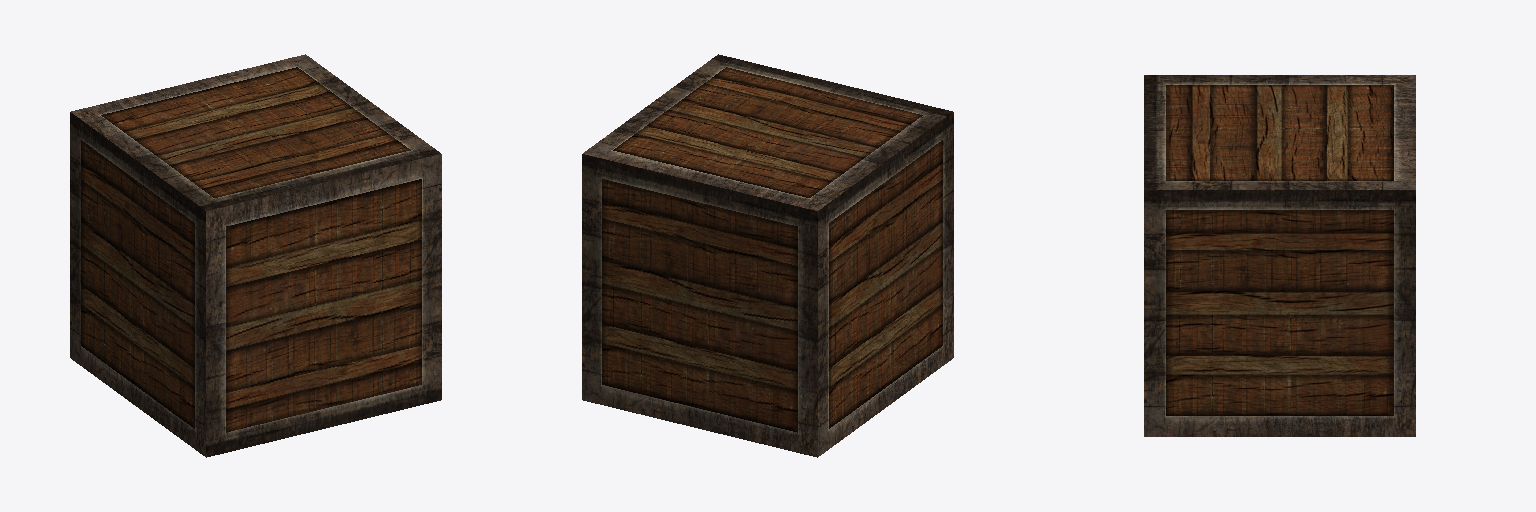
The picture shows the model from 3 angles: view 1: azimuth 30°, elevation 25°; view 2: azimuth 150°, elevation 25°; view 3: azimuth 270°, elevation 25°; orthographic projection.
Parts seen in each view (by area): view 1: Cube; view 2: Cube; view 3: Cube.
Boxes of the visible parts, x1=… form: Cube: x1=70, y1=54, x2=441, y2=457; Cube: x1=582, y1=54, x2=953, y2=457; Cube: x1=1144, y1=75, x2=1415, y2=436.
Size of the model in its own units: 2 by 2 by 2.
Materials: 1 (1 with a texture image).